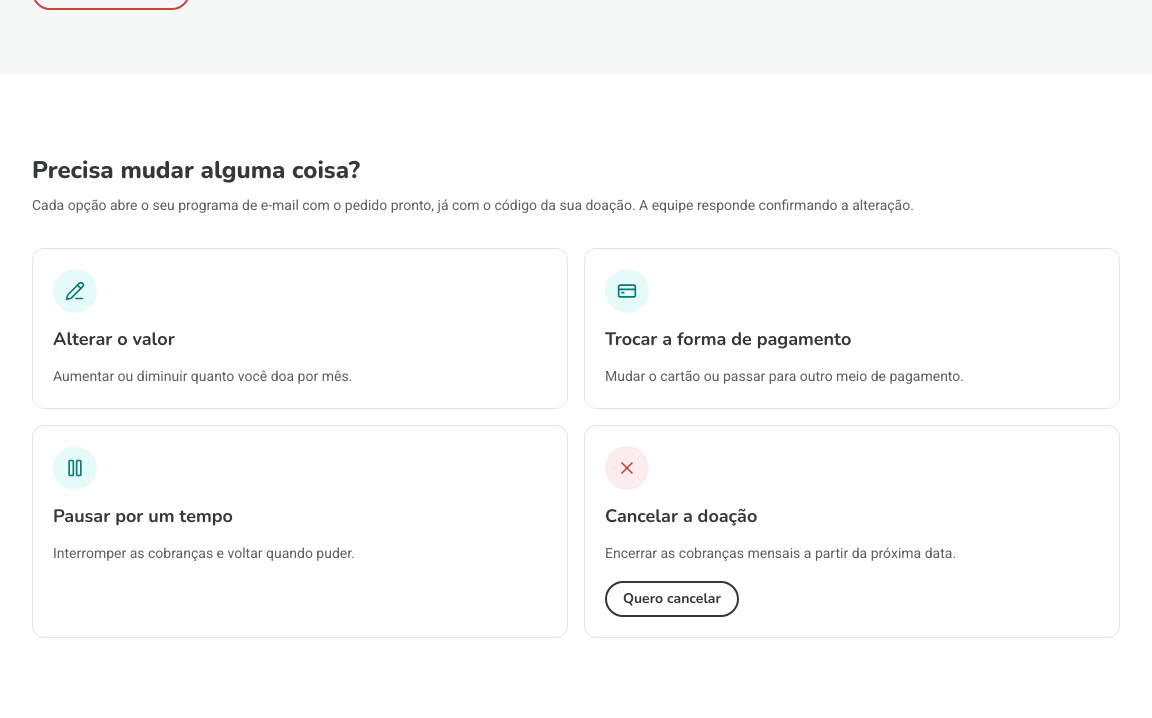
Test: gerenciar doação recorrente › mostra a doação e oferece o cancelamento em dois passos
The image size is (1152, 718).
(page scrolled)
Expected: the link "confirmar cancelamento" is not shown
Click the button "Quero cancelar" at {"x": 672, "y": 599}, box [605, 581, 739, 617]
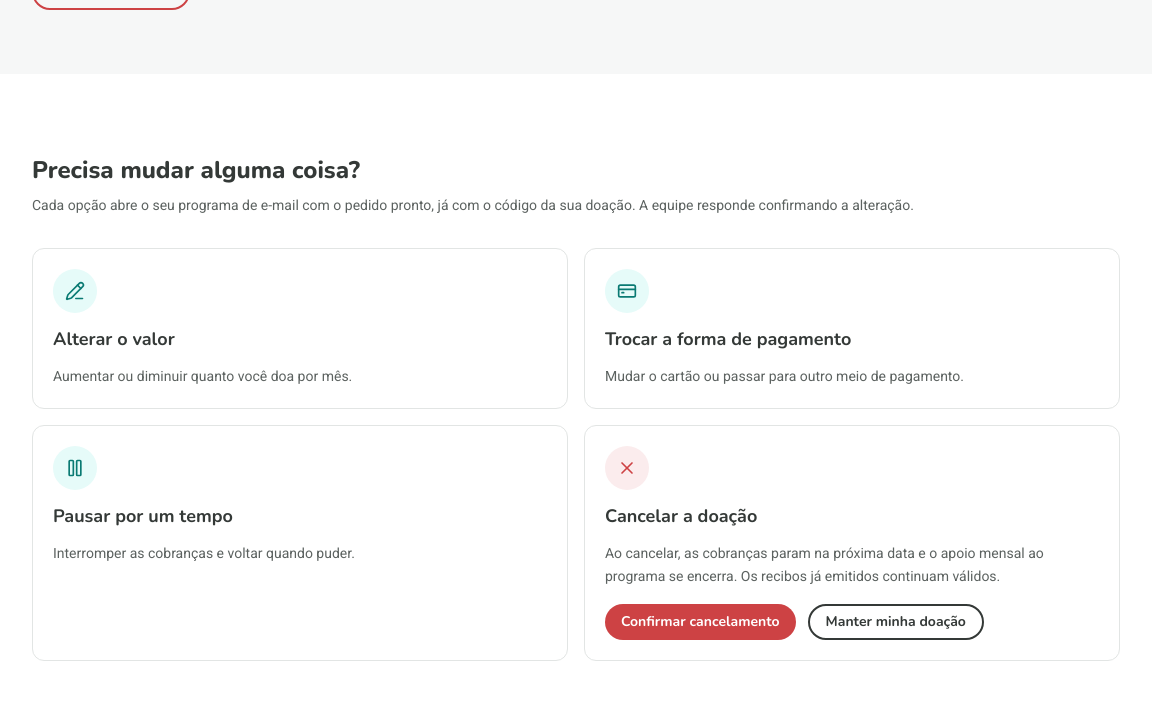
Expected: the link "Confirmar cancelamento" is shown, [605, 604, 796, 640]
Expected: the button "Manter minha doação" is shown, [808, 604, 984, 640]
